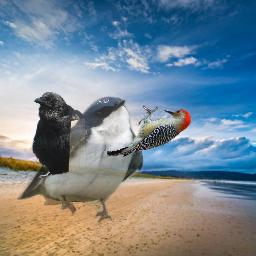Crow: (30, 91, 85, 178)
Swallow: (17, 96, 145, 224)
Woodpecker: (107, 105, 192, 158)
